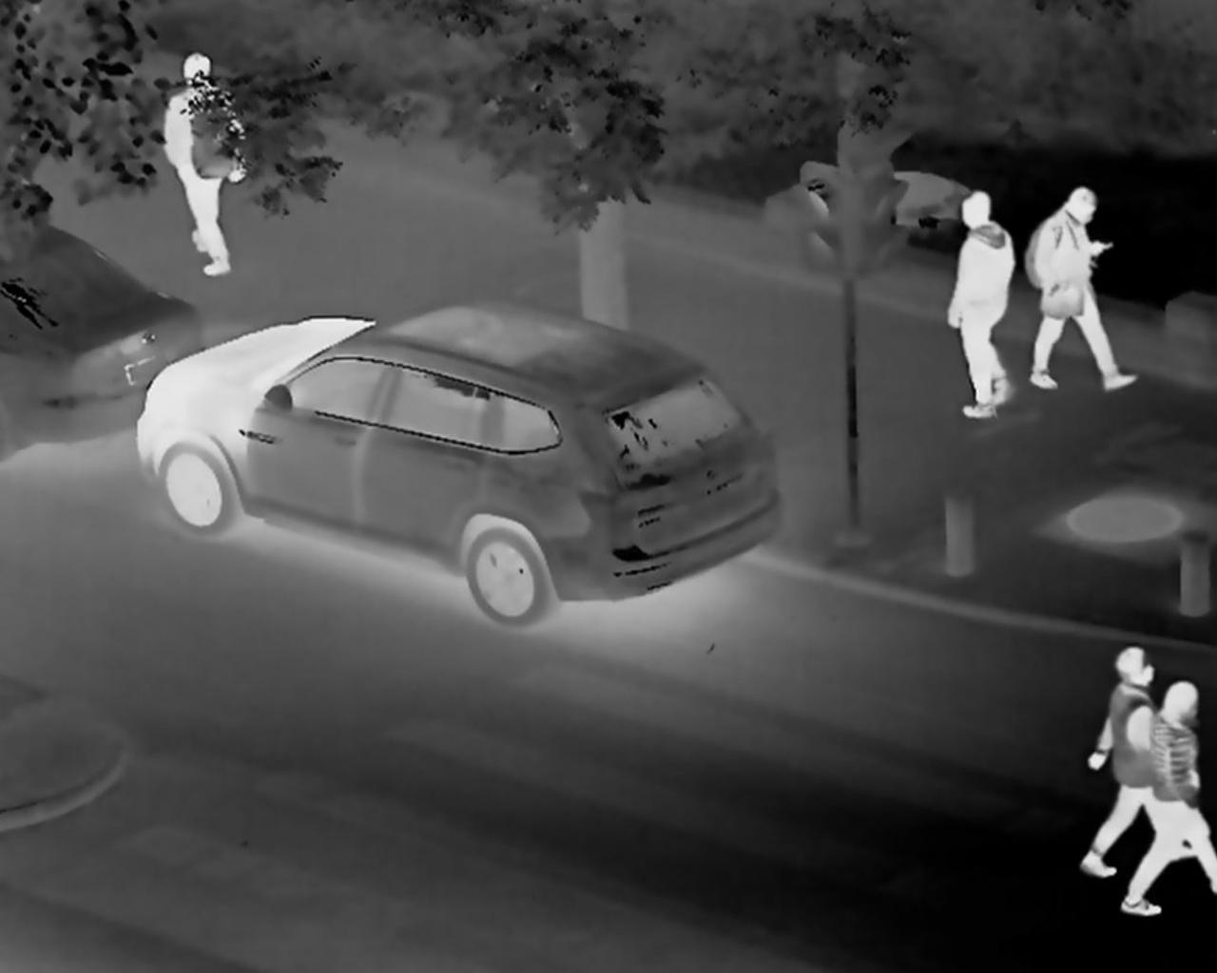person: (138, 32, 257, 281), (951, 193, 1024, 426), (1157, 673, 1212, 962), (1045, 183, 1108, 390), (1107, 620, 1144, 863)
